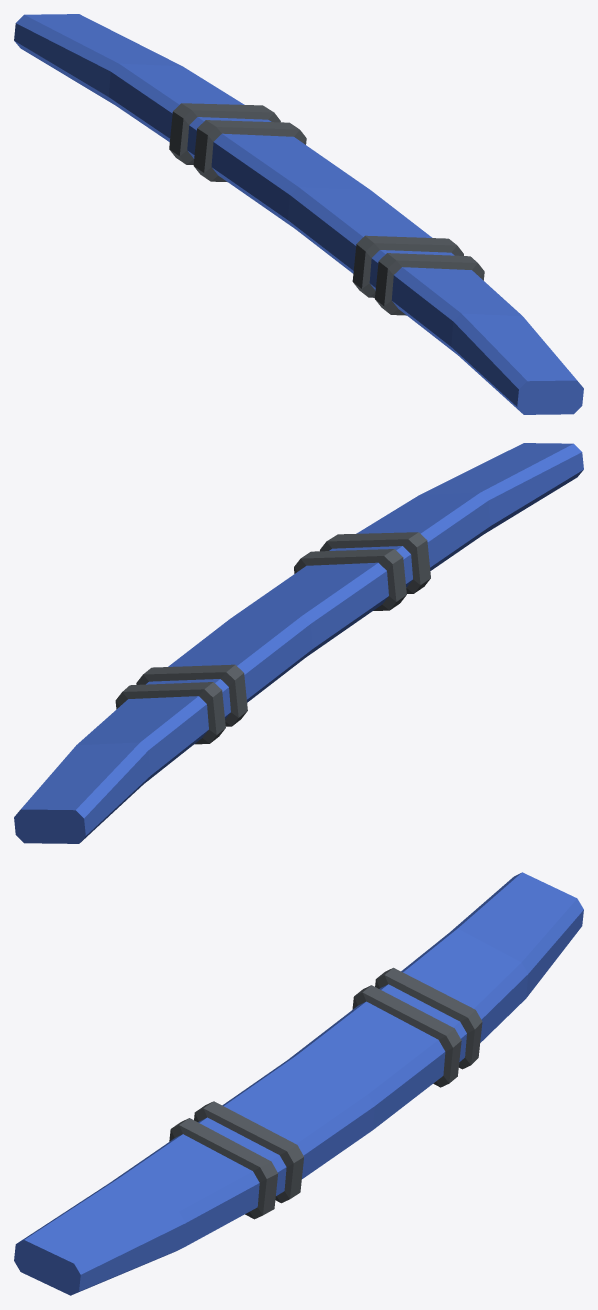
File: Mothership_02_Glider_Right_Blue.fbx
3 views of the same model, one above another, from view 1: azimuth 30°, elevation 25°; view 2: azimuth 150°, elevation 25°; view 3: azimuth 330°, elevation 25° (orthographic).
Parts seen in each view (by area): view 1: Mothership_02_Glider_Right_Blue; view 2: Mothership_02_Glider_Right_Blue; view 3: Mothership_02_Glider_Right_Blue.
Boxes of the visible parts, bbox=[...] form: Mothership_02_Glider_Right_Blue: bbox=[14, 14, 583, 414]; Mothership_02_Glider_Right_Blue: bbox=[14, 443, 583, 843]; Mothership_02_Glider_Right_Blue: bbox=[14, 872, 583, 1295].
Bounding box in the file's own units: 292 × 182 × 2166.
Materials: 1 (1 with a texture image).
